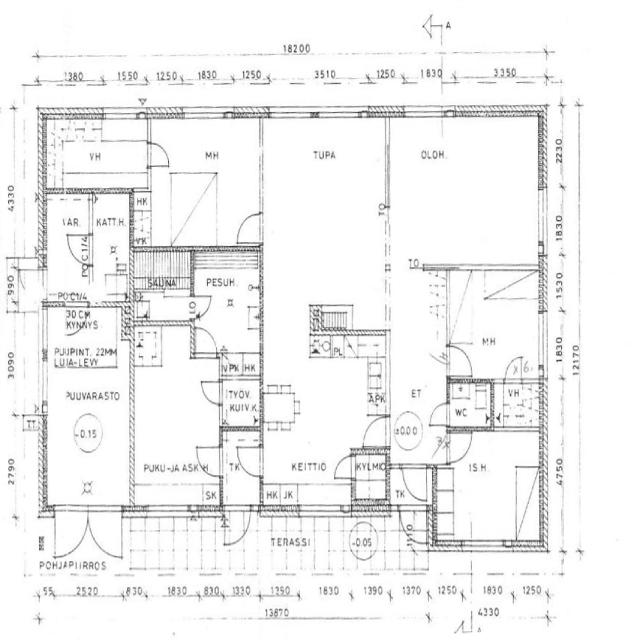door: (86, 503, 125, 562), (51, 505, 90, 561), (223, 505, 253, 548), (400, 462, 430, 504), (233, 208, 264, 248), (15, 264, 45, 304), (235, 442, 265, 481), (446, 342, 476, 380), (194, 441, 224, 479), (360, 412, 390, 450), (446, 428, 474, 465), (192, 323, 220, 359), (147, 139, 173, 169), (199, 376, 224, 407), (67, 232, 92, 262), (503, 352, 525, 384), (428, 400, 452, 428), (332, 452, 354, 482), (190, 292, 213, 320)
window: (532, 182, 551, 256), (254, 123, 268, 212), (534, 308, 550, 370), (316, 105, 368, 122), (401, 103, 450, 121), (468, 536, 512, 555), (143, 501, 193, 517), (37, 353, 50, 406), (182, 107, 225, 122), (103, 108, 141, 121)
zone: (385, 115, 542, 268), (131, 325, 222, 501), (436, 429, 542, 545), (447, 267, 543, 381), (154, 150, 237, 248), (392, 270, 449, 412), (193, 252, 263, 361), (47, 118, 149, 186), (44, 194, 93, 302), (91, 190, 131, 298), (132, 246, 193, 294), (492, 381, 542, 430), (448, 379, 493, 430), (220, 375, 263, 428), (351, 450, 389, 509), (51, 505, 91, 561), (54, 225, 94, 270), (262, 386, 298, 433), (17, 261, 44, 309), (221, 352, 263, 378)
